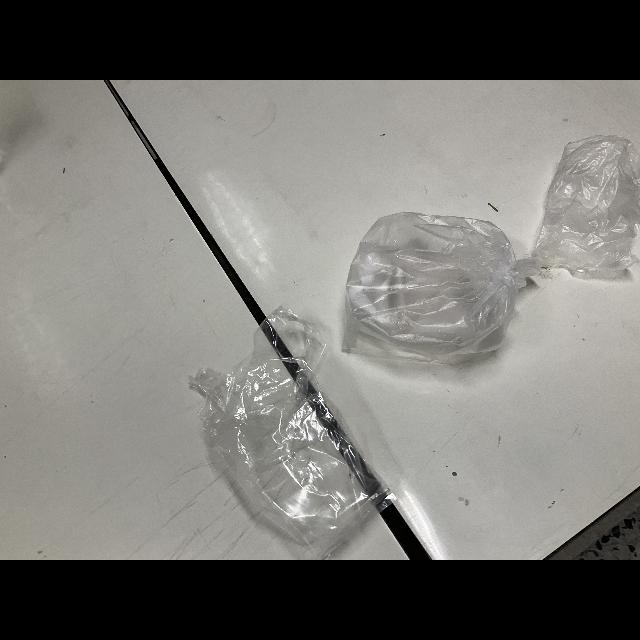plastic_bag: (168, 304, 394, 552), (334, 173, 534, 369)
scrap_plastic: (532, 118, 640, 288)
